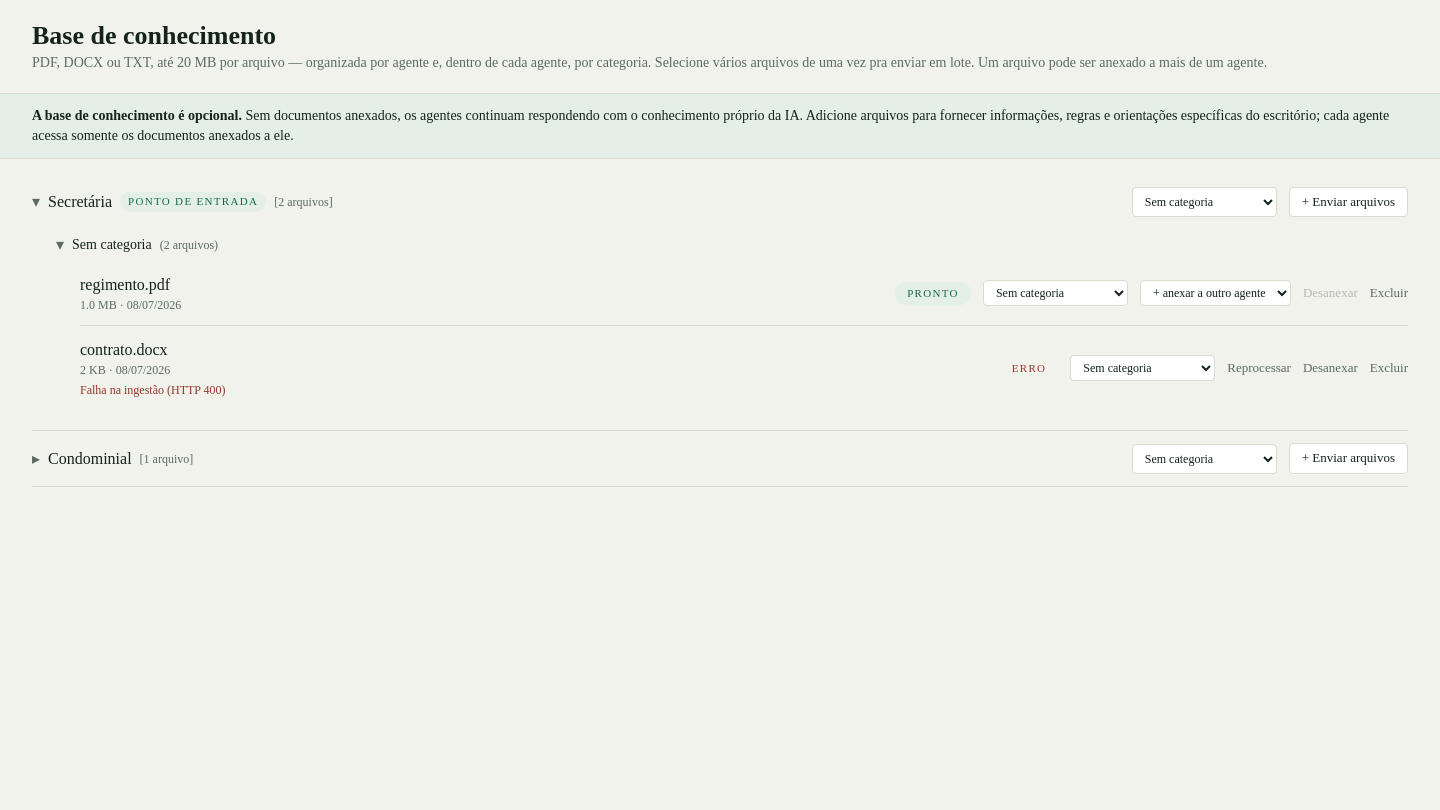
it: KnowledgeBasePanel › um arquivo em 2 agentes aparece nas 2 pastas
The width and height of the screenshot is (1440, 810).
Expected: the text "contrato.docx" is shown, [80,341,168,358]
Expected: the text "regimento.pdf" is shown, [80,276,170,293]
Click the button "▸ Condominial [1 arquivo]" at {"x": 90, "y": 458}, box [32,447,1120,471]
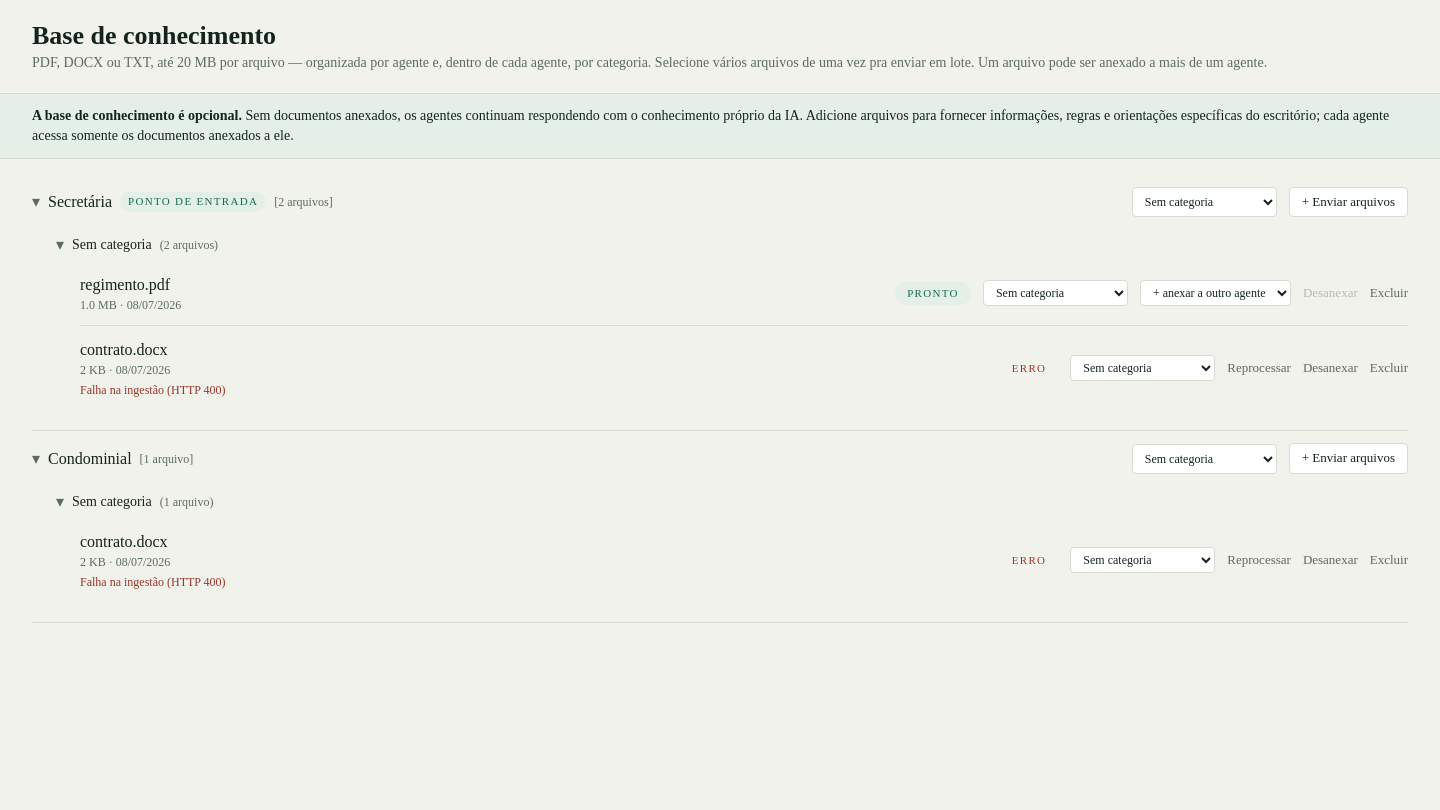
Expected: the text "regimento.pdf" is shown once, [80,276,170,293]
Now the text "contrato.docx" is shown 2 times, box [80,341,168,358]; [80,533,168,550]
